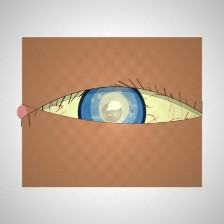corneal_ulcer: (88, 87, 140, 129)
